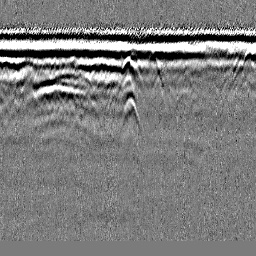cavity: (118, 55, 144, 87)
